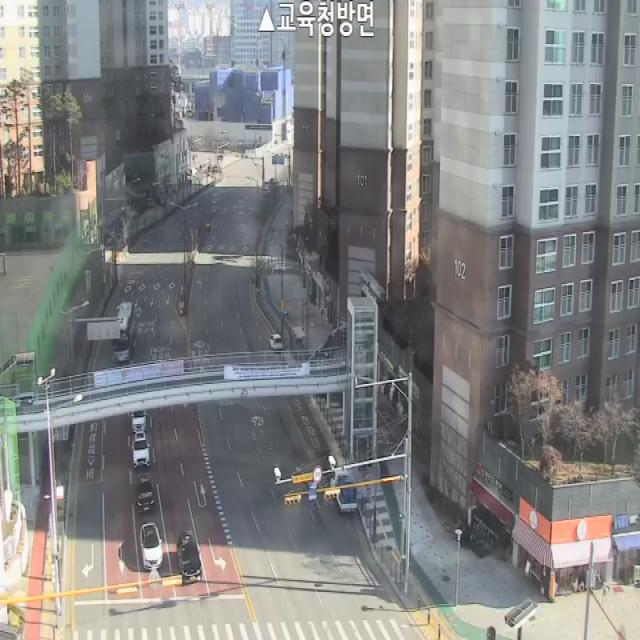Bus: (113, 302, 134, 361)
Car: (177, 530, 202, 584), (140, 522, 164, 571), (132, 432, 150, 468), (138, 474, 154, 514), (132, 411, 146, 432), (270, 334, 283, 350)
Truck: (331, 469, 356, 514)
